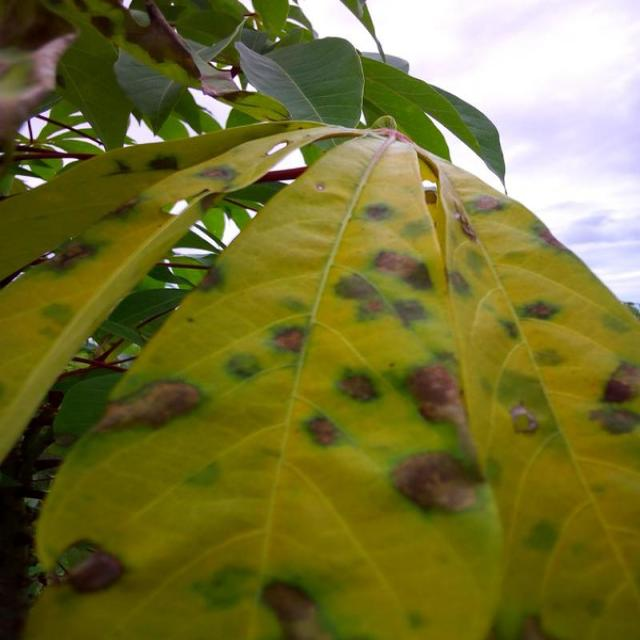cassava leaf: (22, 125, 640, 638)
